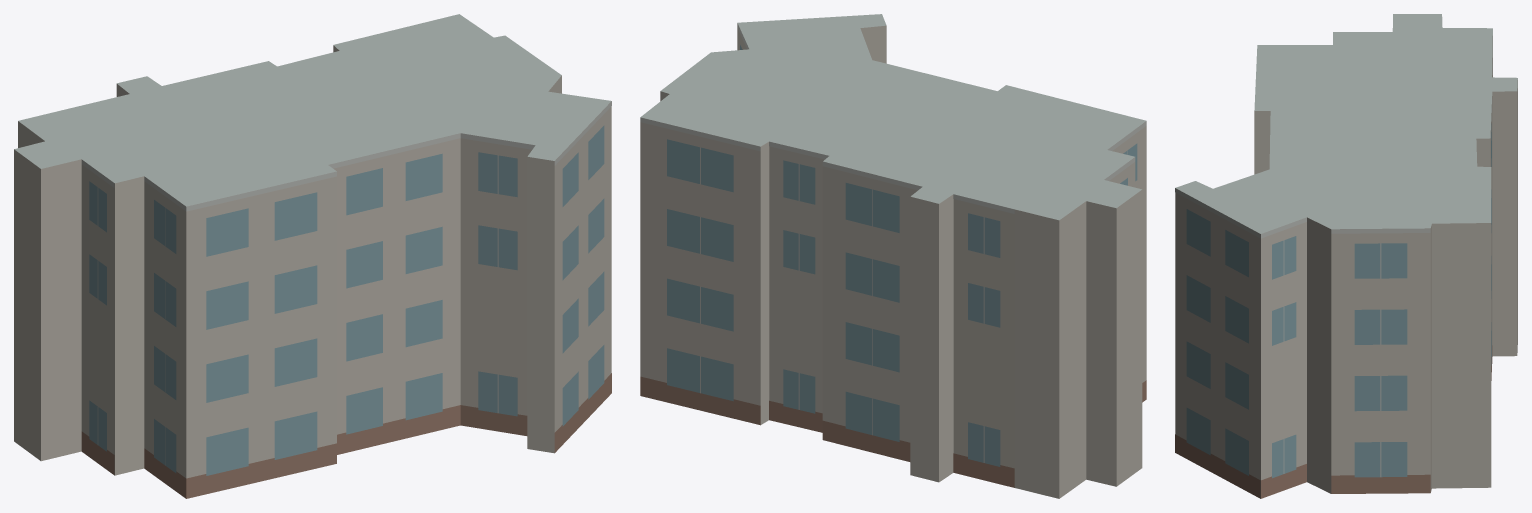
Rendered from survey-upis-32490394.glb.
The picture shows the model from 3 angles, left to right: view 1: azimuth 30°, elevation 25°; view 2: azimuth 150°, elevation 25°; view 3: azimuth 270°, elevation 25°; orthographic projection. The views are drawn at different scales.
Visible parts, largest first — view 1: survey-upis-32490394.tmp; view 2: survey-upis-32490394.tmp; view 3: survey-upis-32490394.tmp.
Boxes of the visible parts, box(x1,y1,x2,y2) form: survey-upis-32490394.tmp: box(14, 14, 611, 498); survey-upis-32490394.tmp: box(640, 14, 1146, 498); survey-upis-32490394.tmp: box(1175, 14, 1517, 498).
Size of the model in its own units: 25.5 by 14.3 by 16.78.
